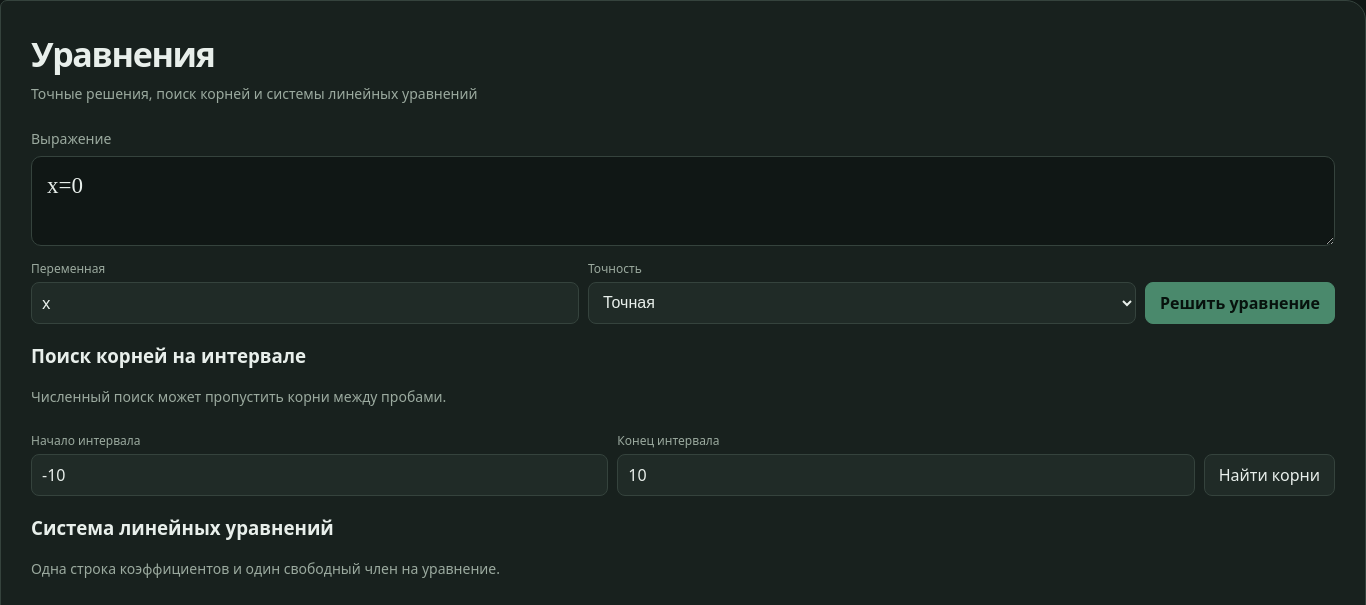
Test case: EquationView › rejects a blank interval endpoint instead of interpreting it as zero
Clear the number field labelled "Начало интервала" at point(320, 475), box [31,454,608,496]
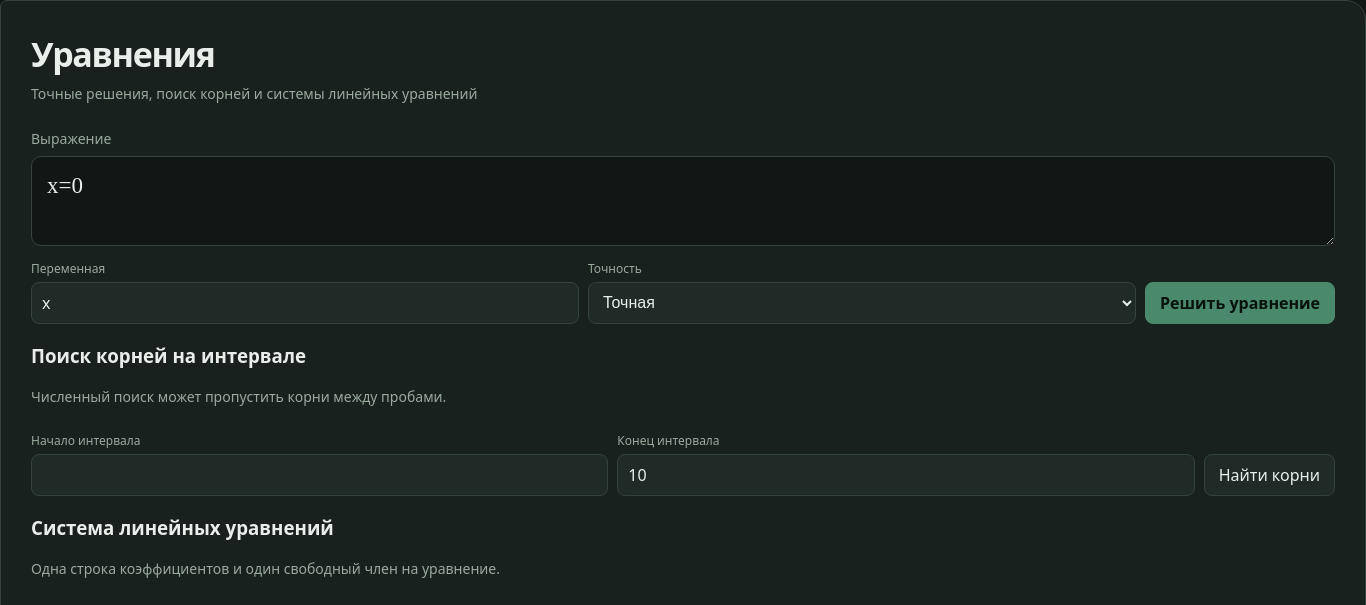
Click the button "Найти корни".
click(1269, 475)  # box [1204,454,1335,496]
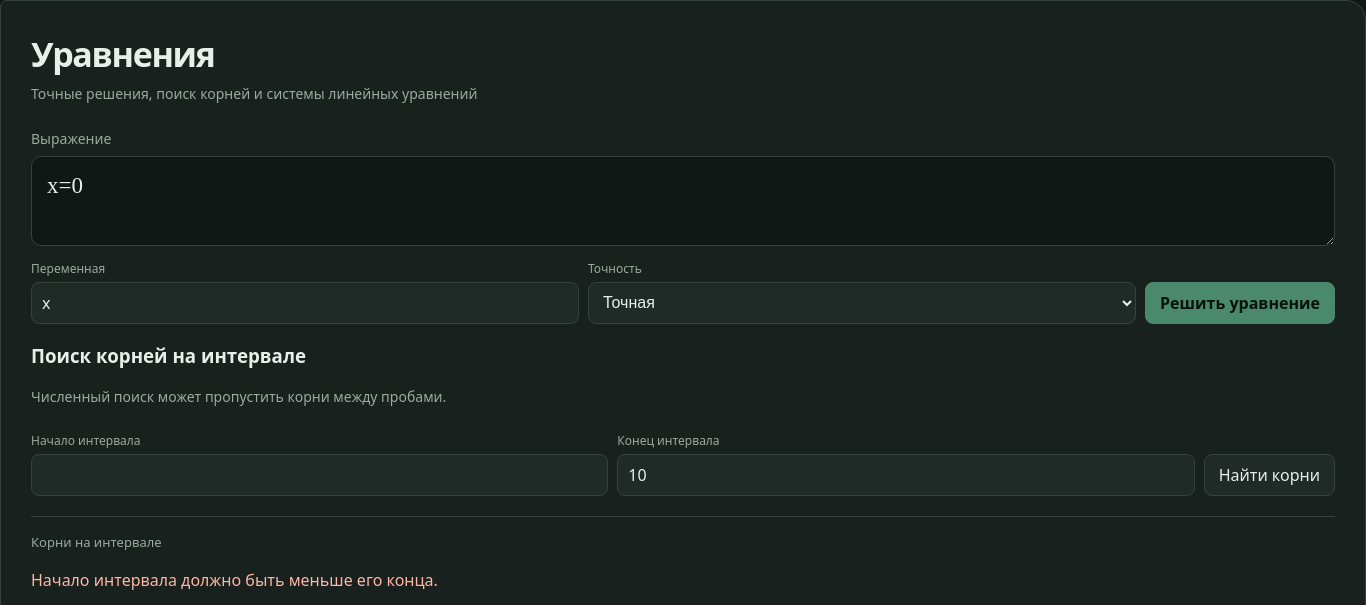
Expected: the message shows "интервал", [31,569,438,591]
